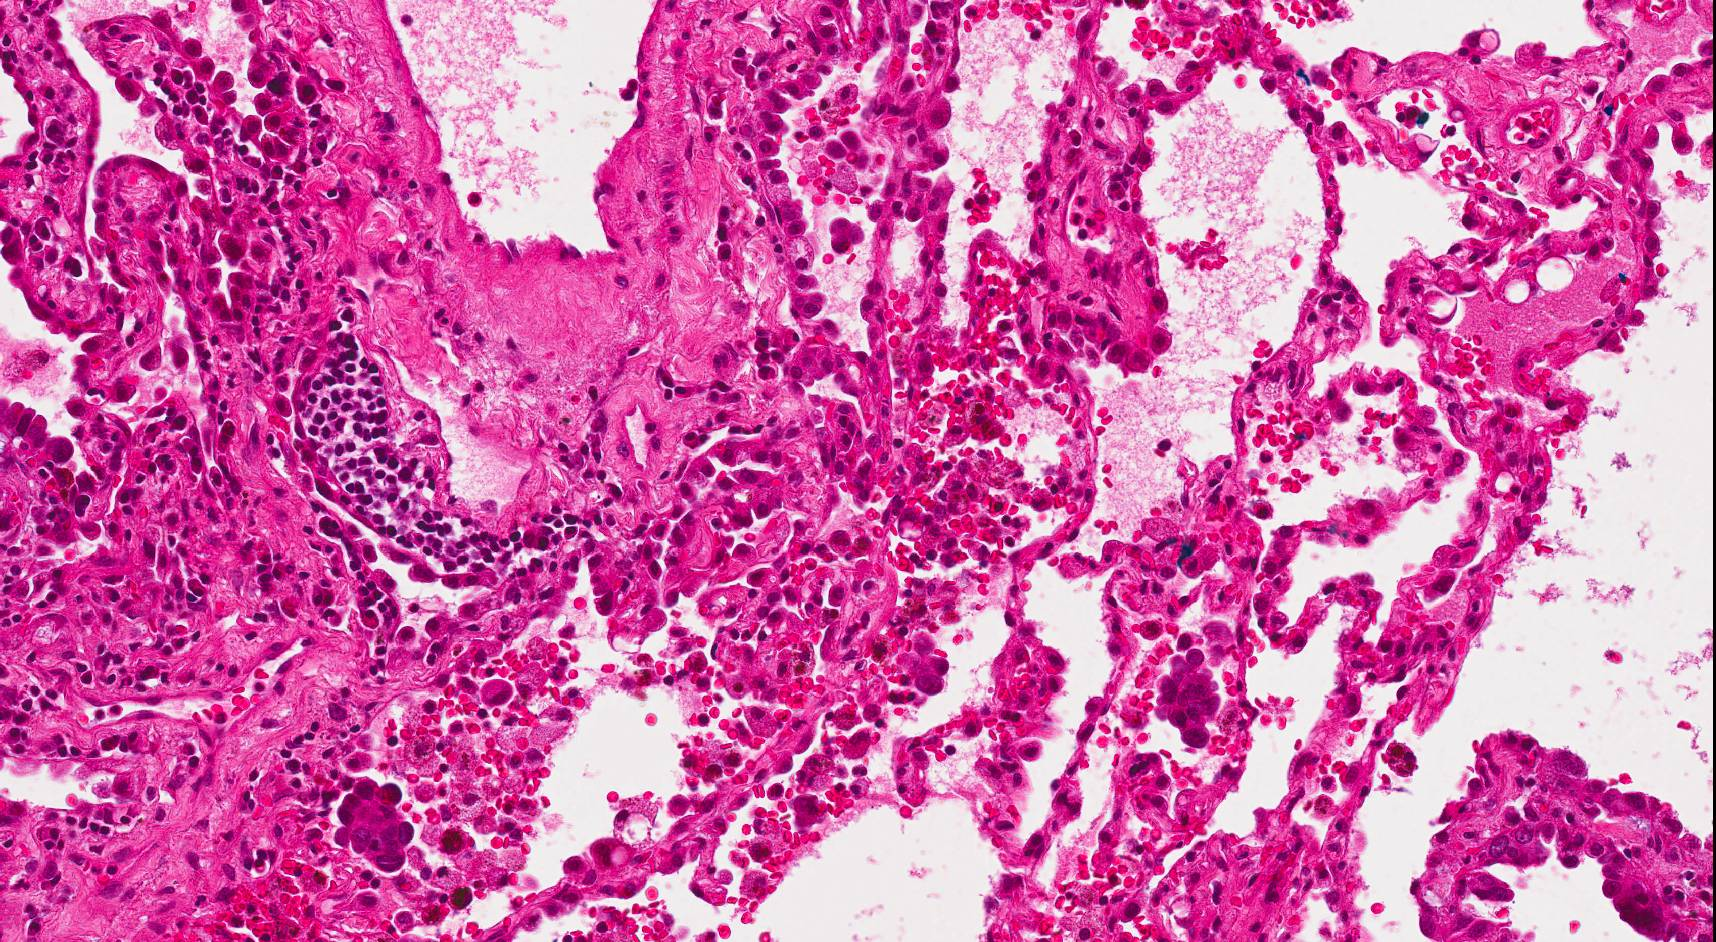stas: (333, 779, 418, 876), (1153, 650, 1222, 751), (901, 636, 954, 695)
